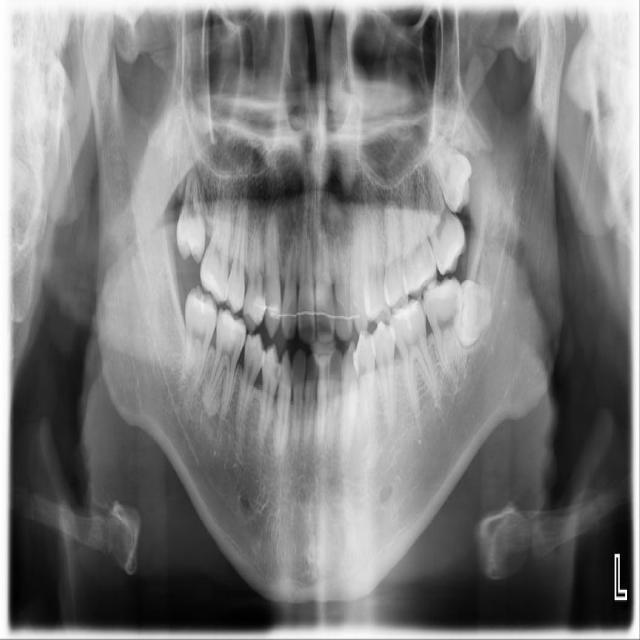52: (377, 292, 440, 353), (209, 307, 252, 359)
73: (602, 567, 610, 583)
BioHorizons Implant: (401, 149, 477, 278)
BioLife Implant: (407, 115, 490, 217)
Biomet 3i Implant: (450, 279, 497, 350)
Blue Sky Bio Implant: (422, 275, 465, 381)
Caries: (171, 169, 208, 265)
Implant: (178, 284, 220, 392)
